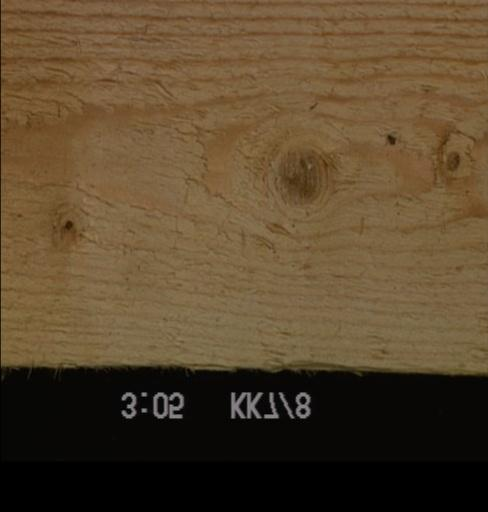small_knot: (52, 213, 82, 239), (379, 125, 401, 154)
sound_knot: (270, 146, 330, 213), (431, 126, 479, 182)
split: (182, 356, 290, 370)
